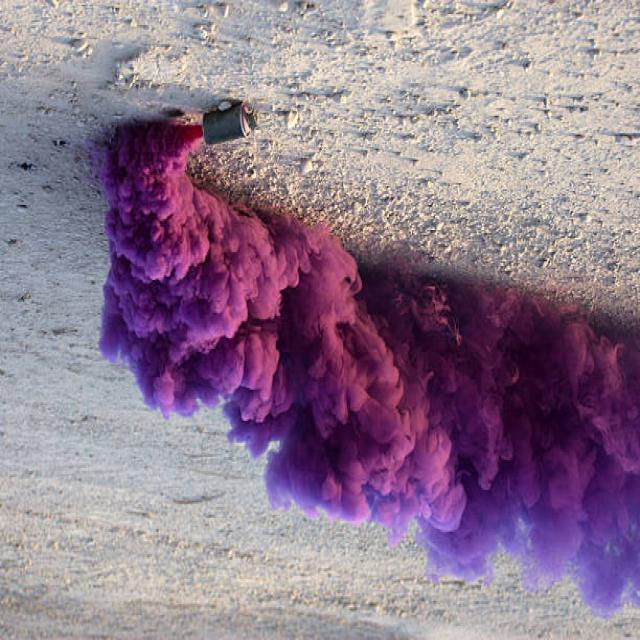grenade: (198, 100, 265, 149)
